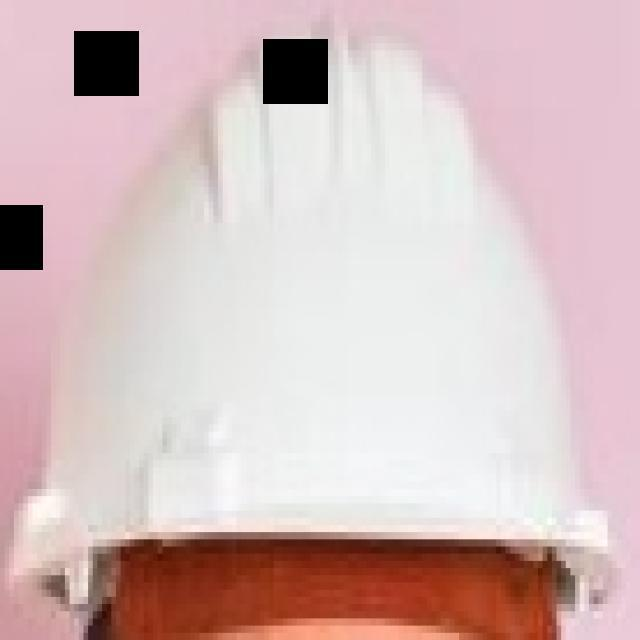white helmet: (30, 34, 622, 576)
